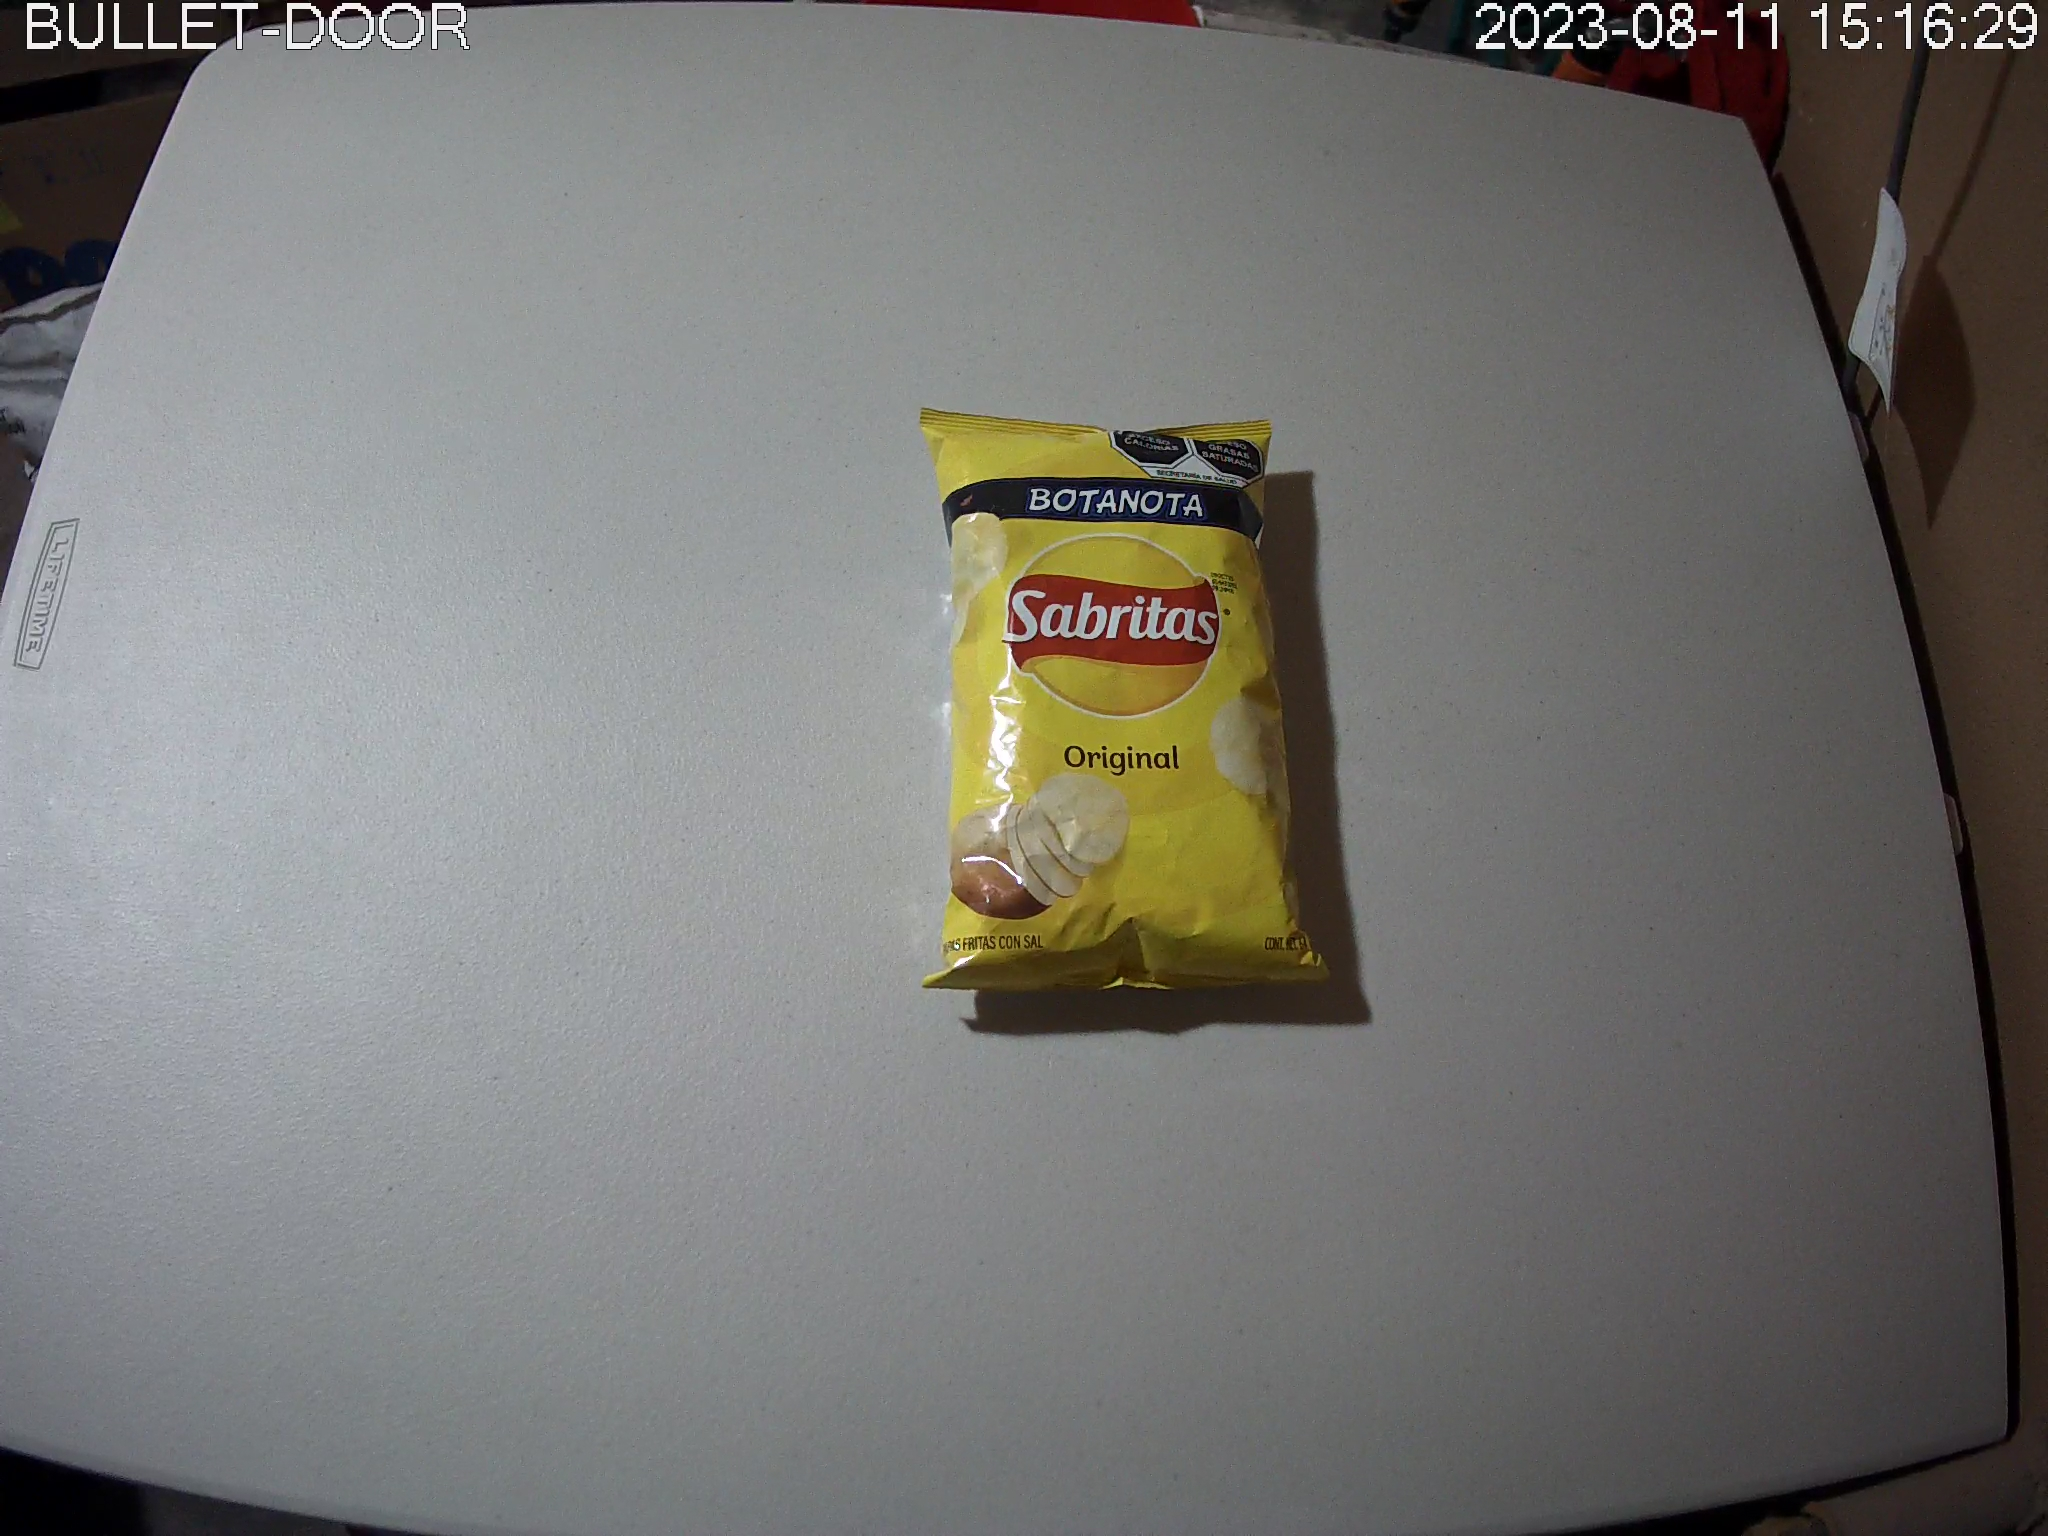Sabritas_64_F: (918, 408, 1335, 992)
